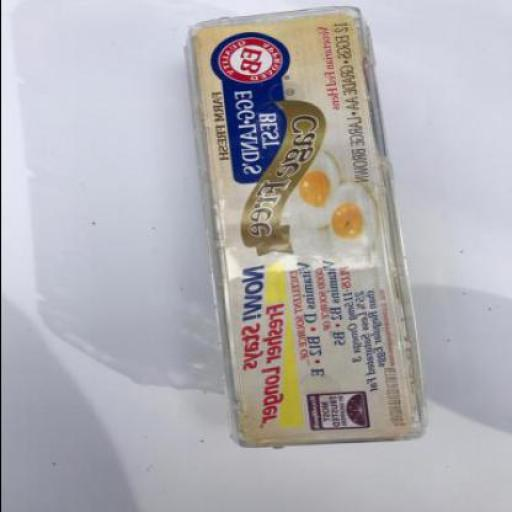plastic: (182, 2, 425, 448)
